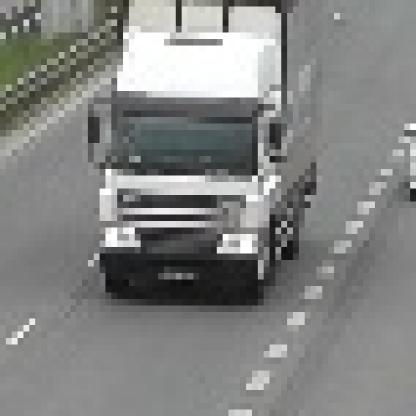truck: (82, 1, 317, 293)
